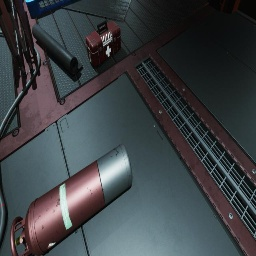FirstAidBox ,: (86, 20, 121, 68)
NitrogenTank ,: (10, 143, 132, 256)
